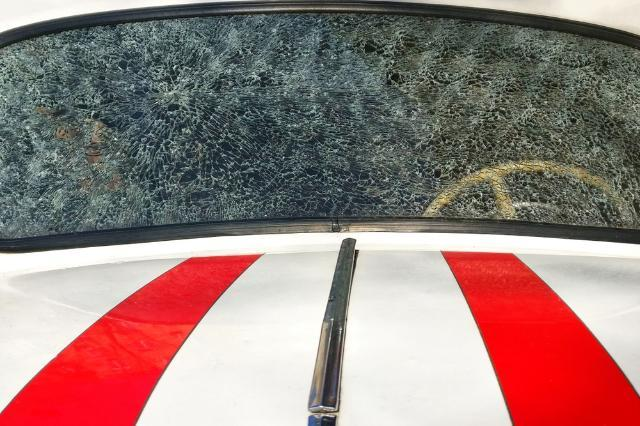glass shatter: (0, 11, 640, 240)
